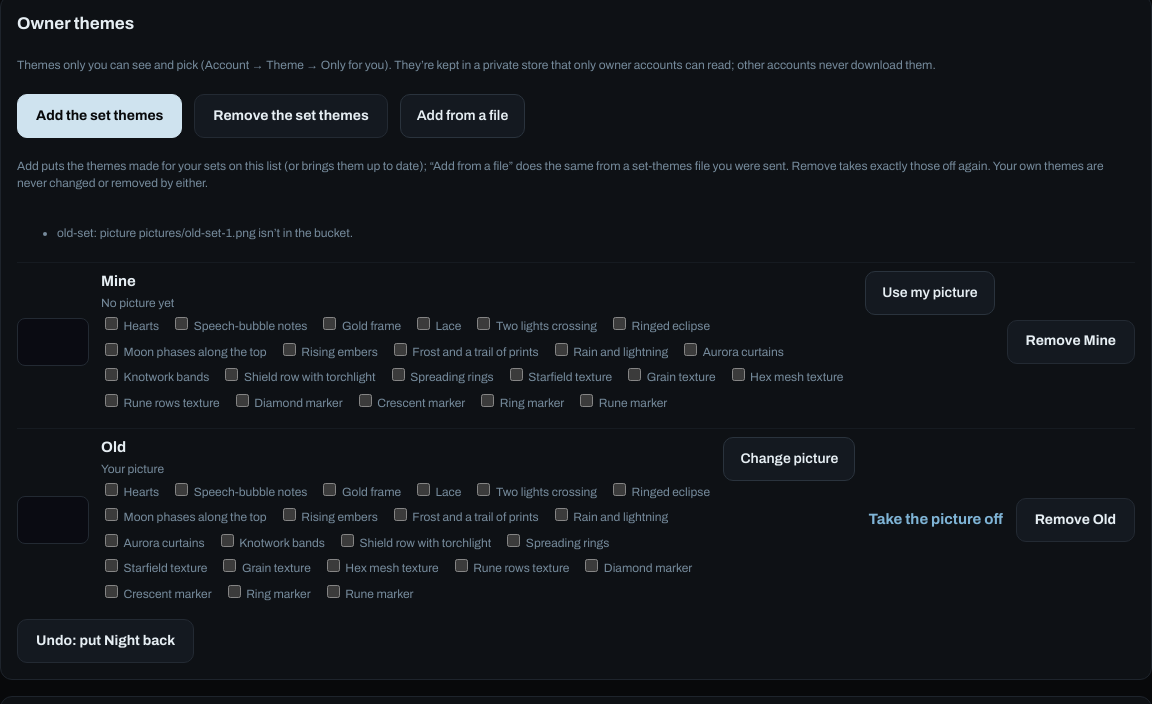
Test: owner-only themes in the app (T47) › “Add the set themes” with pictures: each pack goes to its own file, set themes added before are brought up to date (your picture kept), yours never touched (T74
Click the button "Add the set themes" at (100, 116), box [17,94,182,138]
(page scrolled)
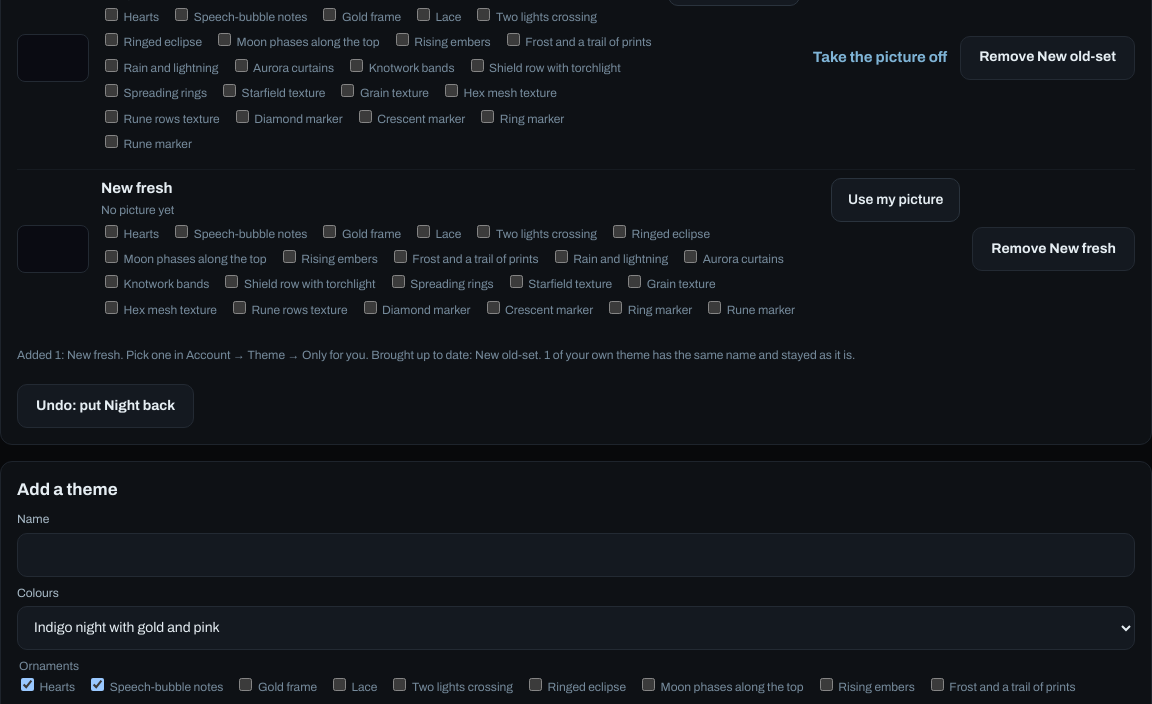
Expected: the text "Brought up to date: New old-set" is shown, [17,348,855,362]
